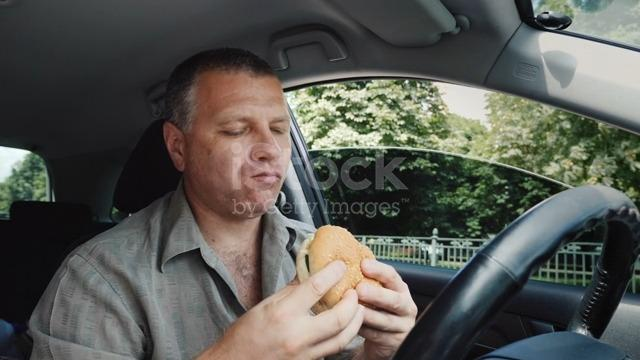Eating: (140, 44, 416, 323)
